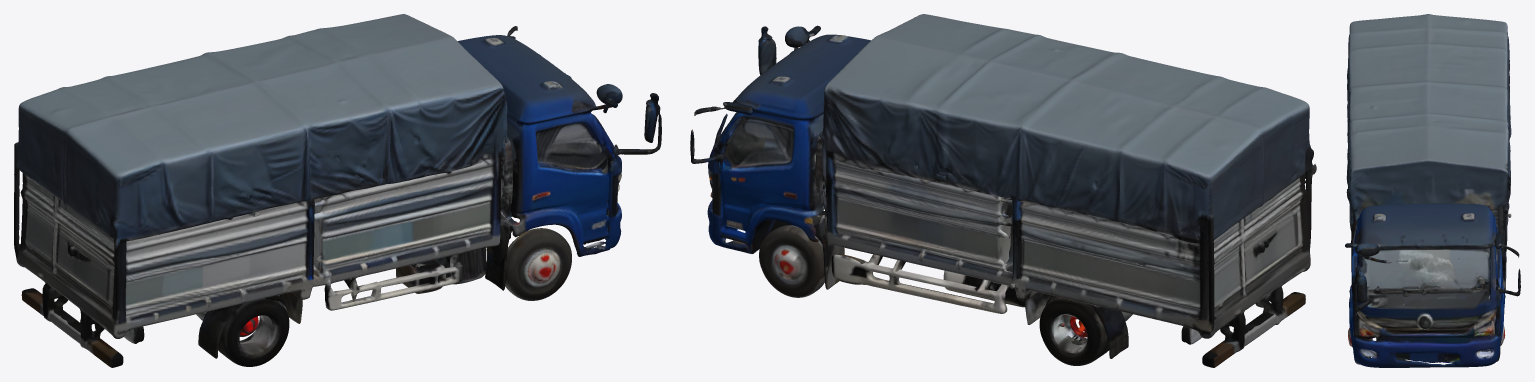
The picture shows the model from 3 angles, left to right: view 1: azimuth 30°, elevation 25°; view 2: azimuth 150°, elevation 25°; view 3: azimuth 270°, elevation 25°; orthographic projection. The views are drawn at different scales.
Parts seen in each view (by area): view 1: tripo_node_557be2eb-77be-4fbb-8faa-425365c7dc12; view 2: tripo_node_557be2eb-77be-4fbb-8faa-425365c7dc12; view 3: tripo_node_557be2eb-77be-4fbb-8faa-425365c7dc12.
Part boxes in pixels (bbox=[...]): tripo_node_557be2eb-77be-4fbb-8faa-425365c7dc12: bbox=[14, 14, 661, 367]; tripo_node_557be2eb-77be-4fbb-8faa-425365c7dc12: bbox=[690, 14, 1316, 367]; tripo_node_557be2eb-77be-4fbb-8faa-425365c7dc12: bbox=[1345, 14, 1520, 367].
Size of the model in its own units: 100 by 42.38 by 35.59.
